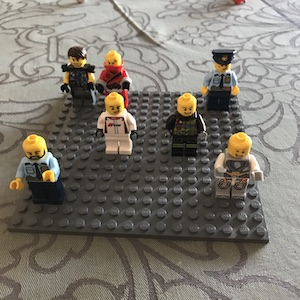Lego: (8, 133, 65, 207), (209, 131, 265, 203), (93, 92, 138, 157), (164, 92, 207, 158), (199, 49, 241, 112), (60, 45, 97, 108), (96, 49, 133, 111)
